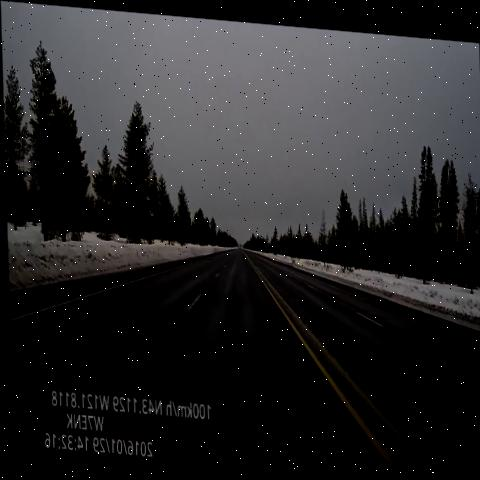pothole: (45, 306, 75, 333), (88, 287, 106, 308), (198, 250, 213, 263)
